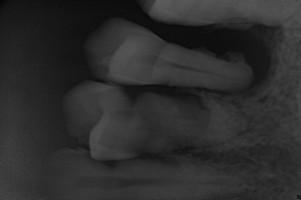Dental Caries: (196, 27, 274, 95)
